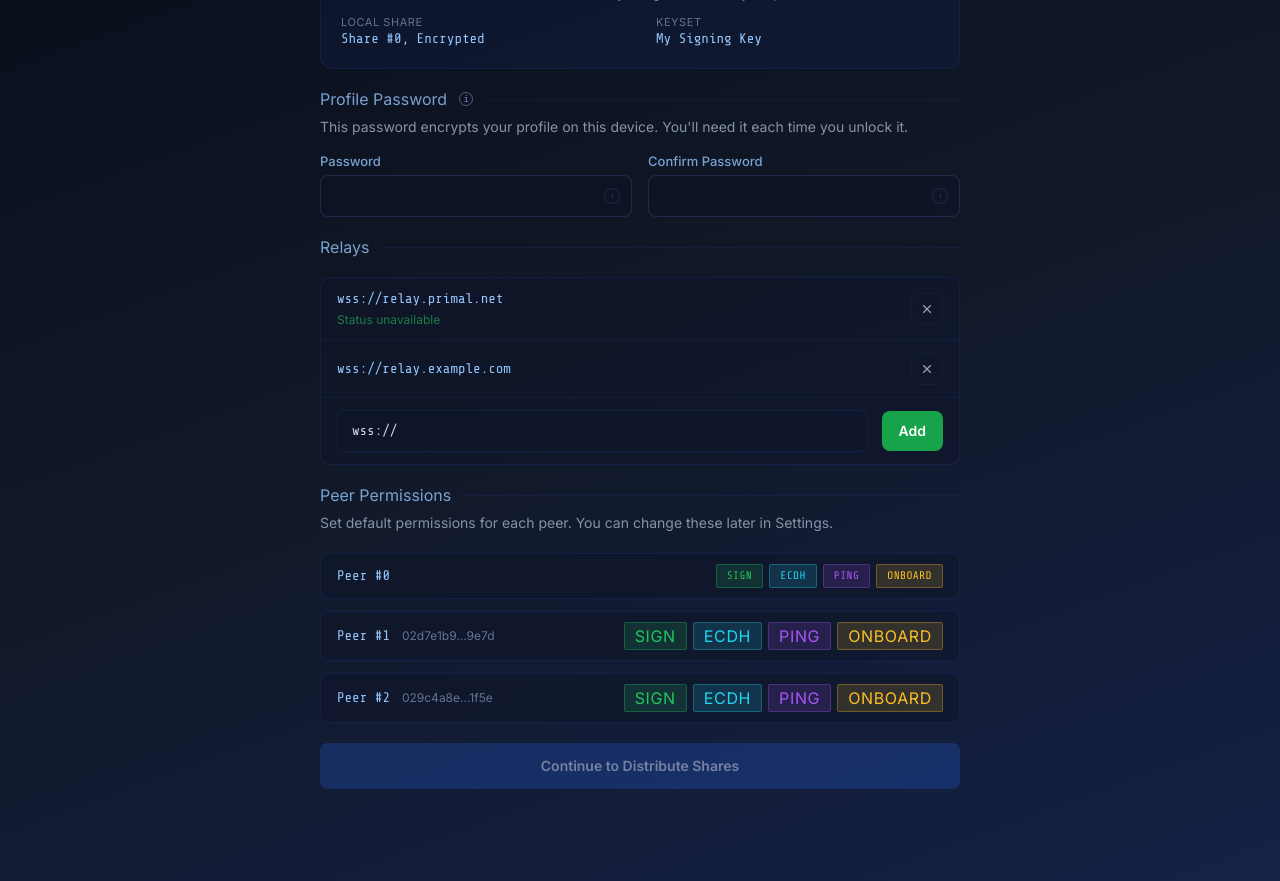
Test case: CreateProfileScreen › adds a relay when Add clicked with a valid input (VAL-SHR-004)
(page scrolled)
Check: the text "wss://relay.primal.net" is shown, box [337, 290, 503, 308]
Check: the text "wss://relay.example.com" is shown, box [337, 360, 511, 378]
Type damus.io into add-row and click Add
Replace the text in the field showing "wss://" with "wss://relay.damus.io": (602, 431) [337, 410, 868, 452]
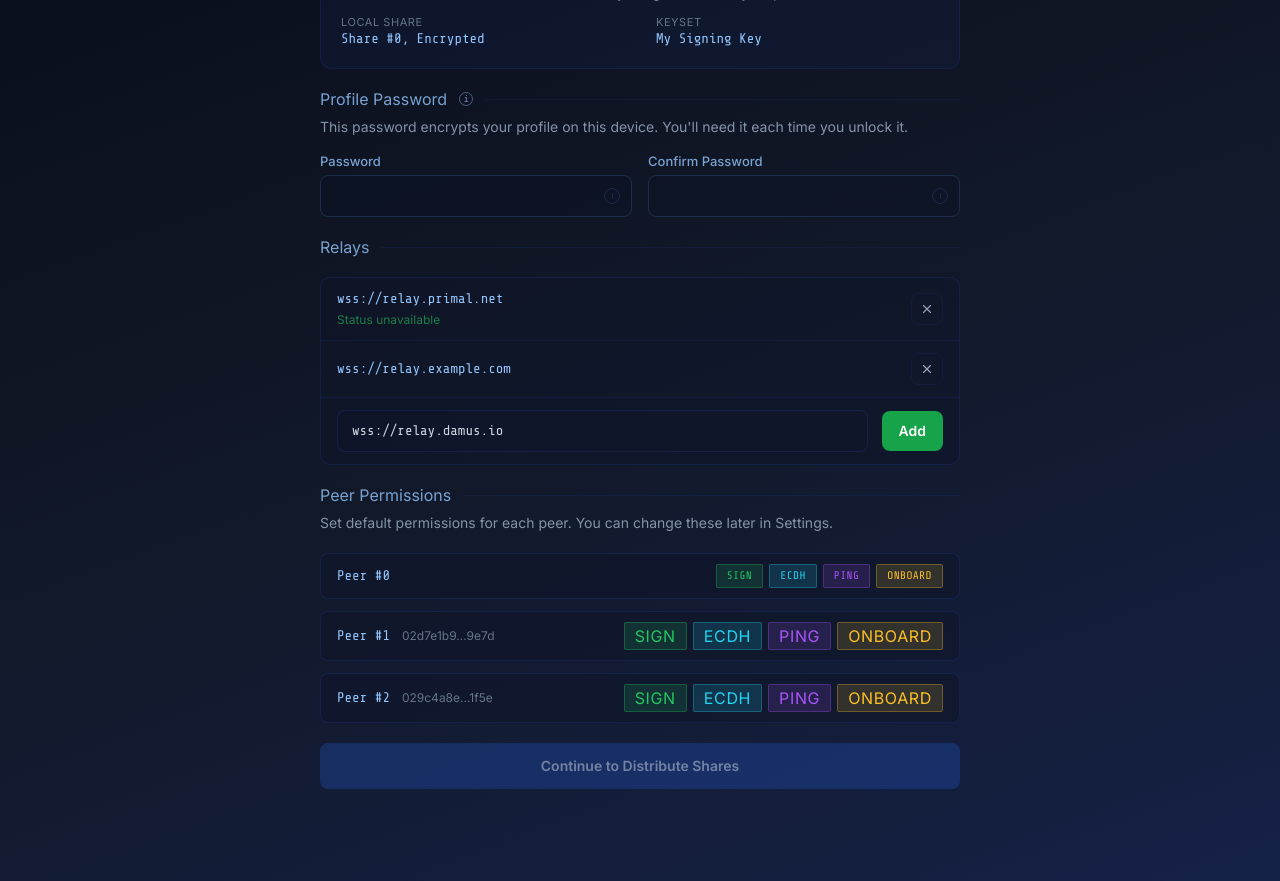
Click the button "Add": (912, 431) [882, 411, 943, 451]
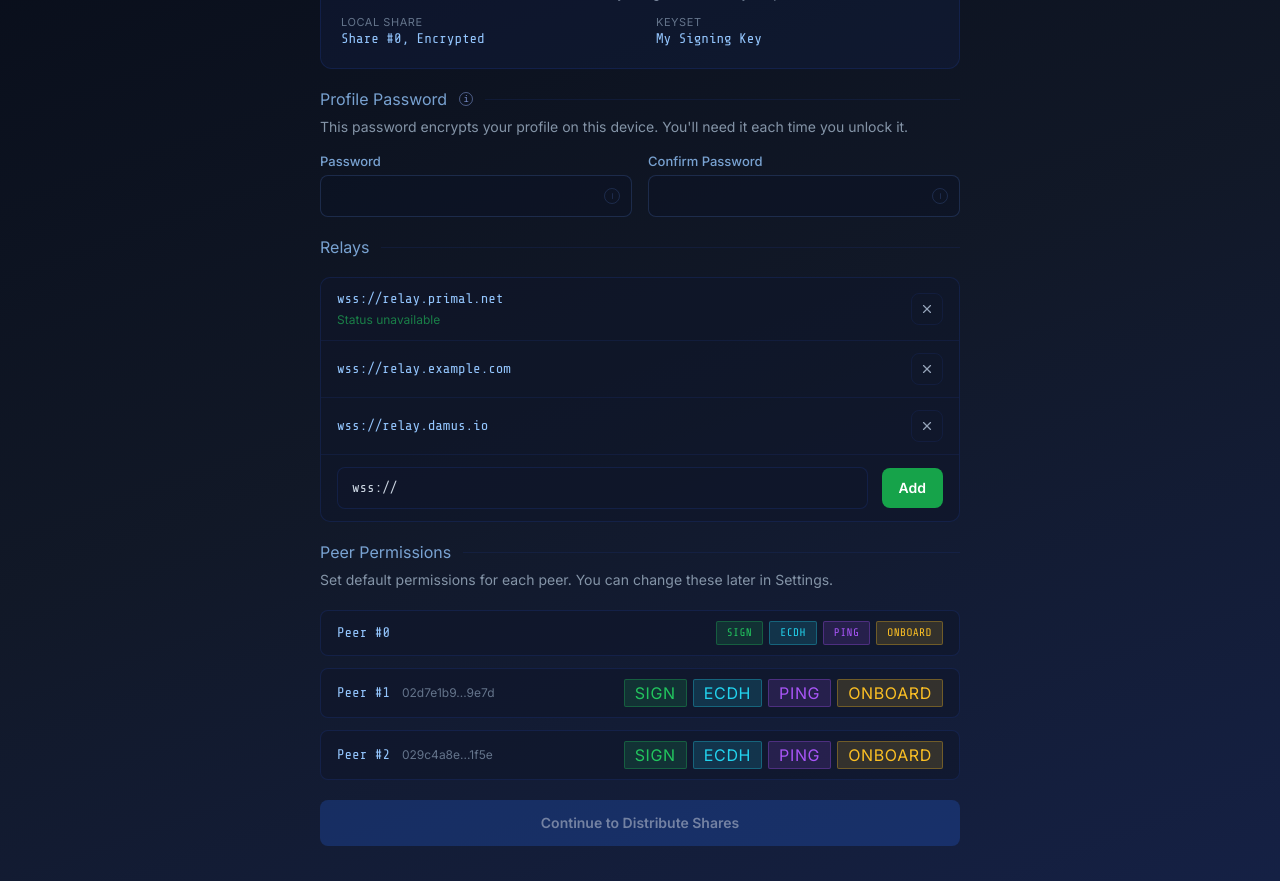
Check: the text "wss://relay.damus.io" is shown, box [337, 417, 488, 435]
